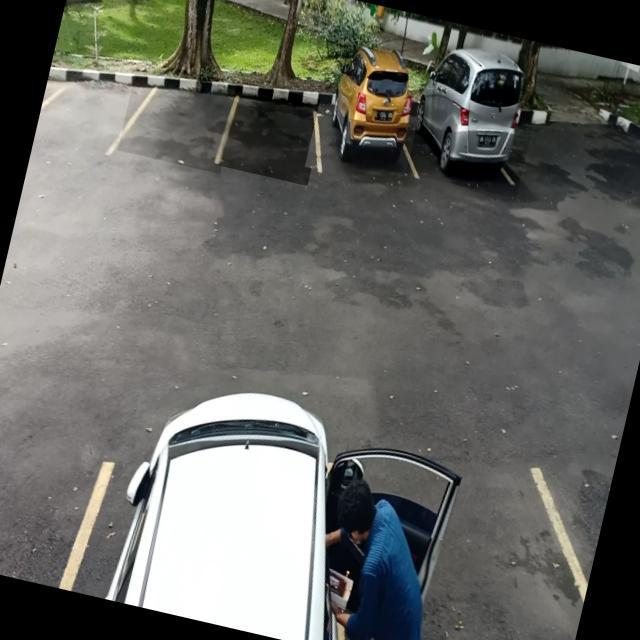empty: (117, 60, 240, 174), (218, 80, 326, 186)
occupied: (400, 66, 540, 198), (304, 69, 424, 189)
